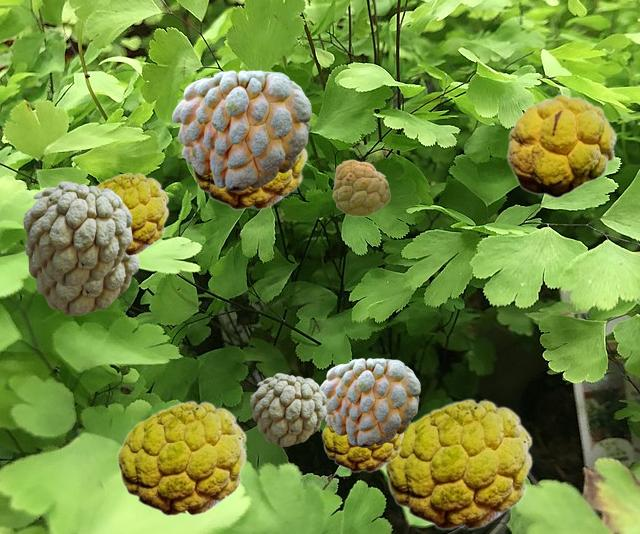atis: (384, 398, 532, 529), (172, 70, 310, 190), (116, 400, 246, 515), (506, 93, 616, 197), (23, 181, 131, 285), (320, 358, 419, 446), (25, 243, 138, 314), (190, 148, 307, 209), (96, 172, 168, 255), (250, 373, 325, 445), (321, 423, 403, 471), (332, 159, 389, 215)
